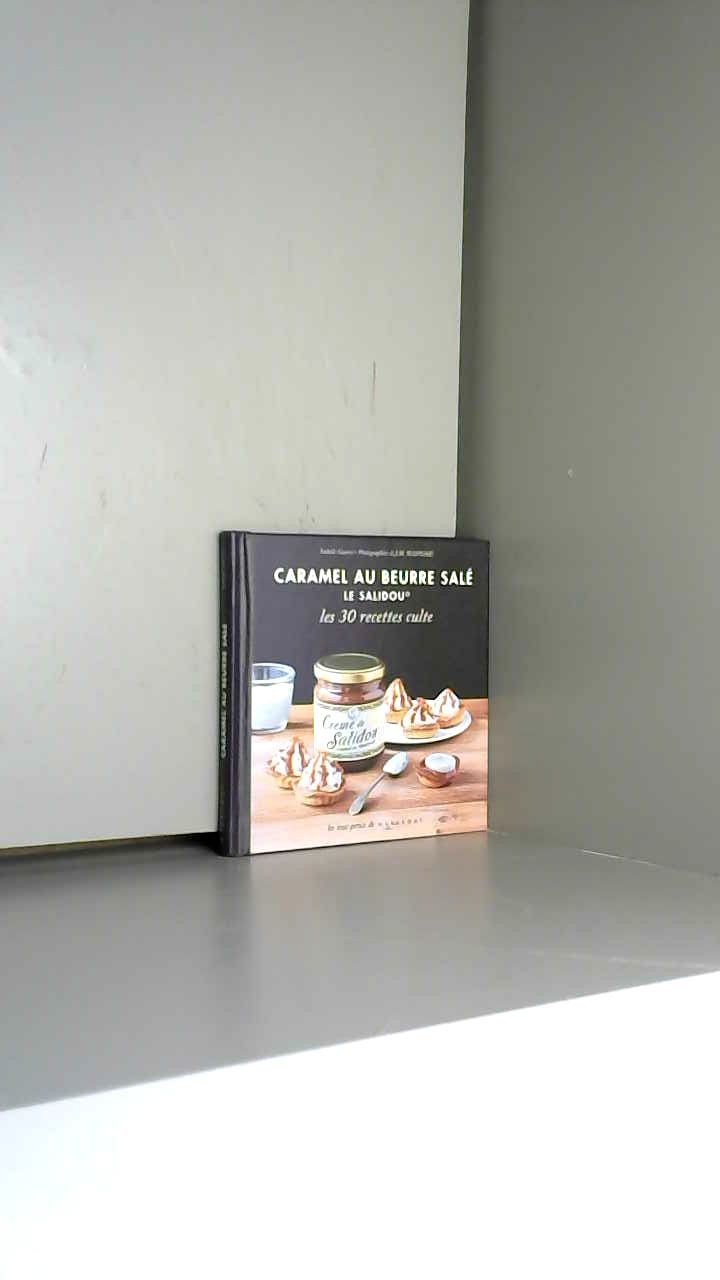book: (200, 516, 507, 876)
